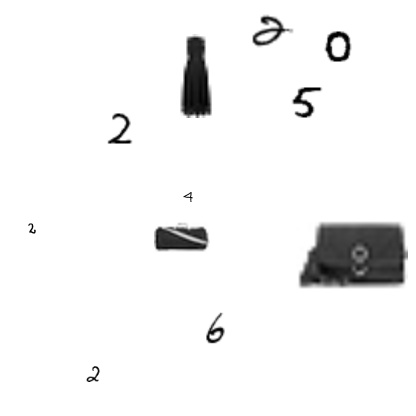0: (317, 24, 359, 66)
2: (241, 3, 297, 59), (99, 109, 141, 151), (83, 364, 105, 386), (25, 222, 39, 236)
4: (182, 189, 196, 203)
5: (283, 80, 325, 122)
6: (193, 310, 235, 352)
Bag: (296, 199, 408, 311), (154, 209, 210, 265)
Dress: (154, 34, 238, 118)
